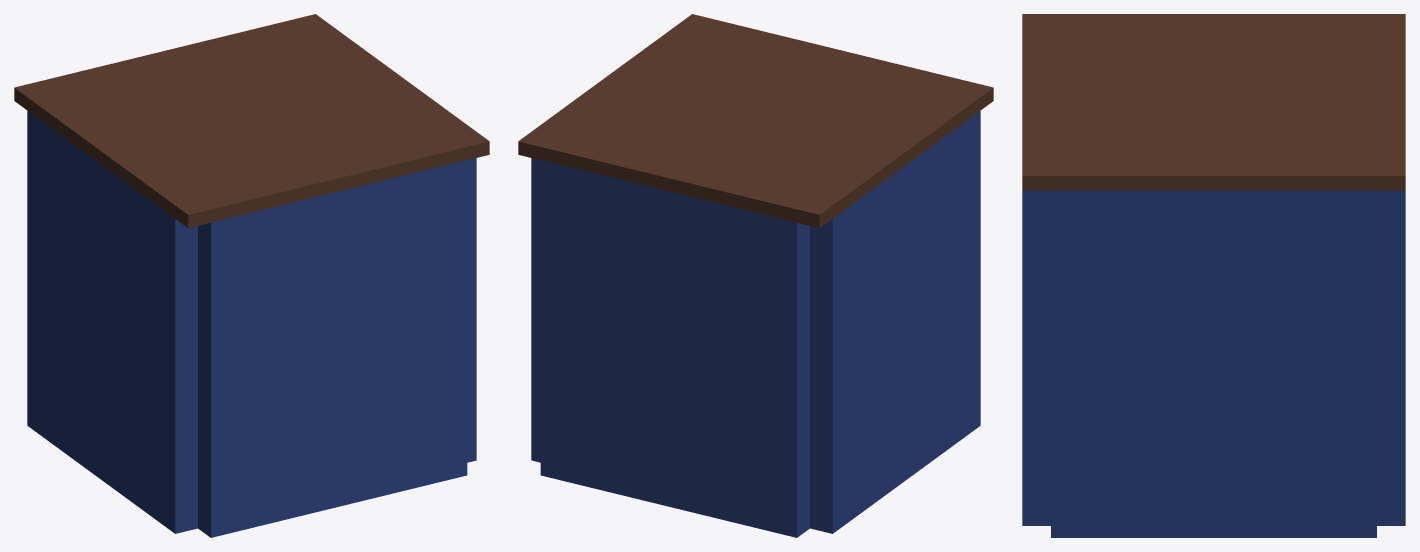
Rendered from Connect_4.fbx.
3 views of the same model, side by side, from view 1: azimuth 30°, elevation 25°; view 2: azimuth 150°, elevation 25°; view 3: azimuth 270°, elevation 25° (orthographic). The views are drawn at different scales.
Parts seen in each view (by area): view 1: Cube_5, Cube_4; view 2: Cube_5, Cube_4; view 3: Cube_5, Cube_4.
Part boxes in pixels (x1,y1,x2,y2): Cube_5: (27,111,476,537); Cube_4: (14,14,489,228); Cube_5: (531,111,980,537); Cube_4: (518,14,993,228); Cube_5: (1022,190,1405,537); Cube_4: (1022,14,1405,190).
Bounding box in the file's own units: 200 × 208 × 200.
